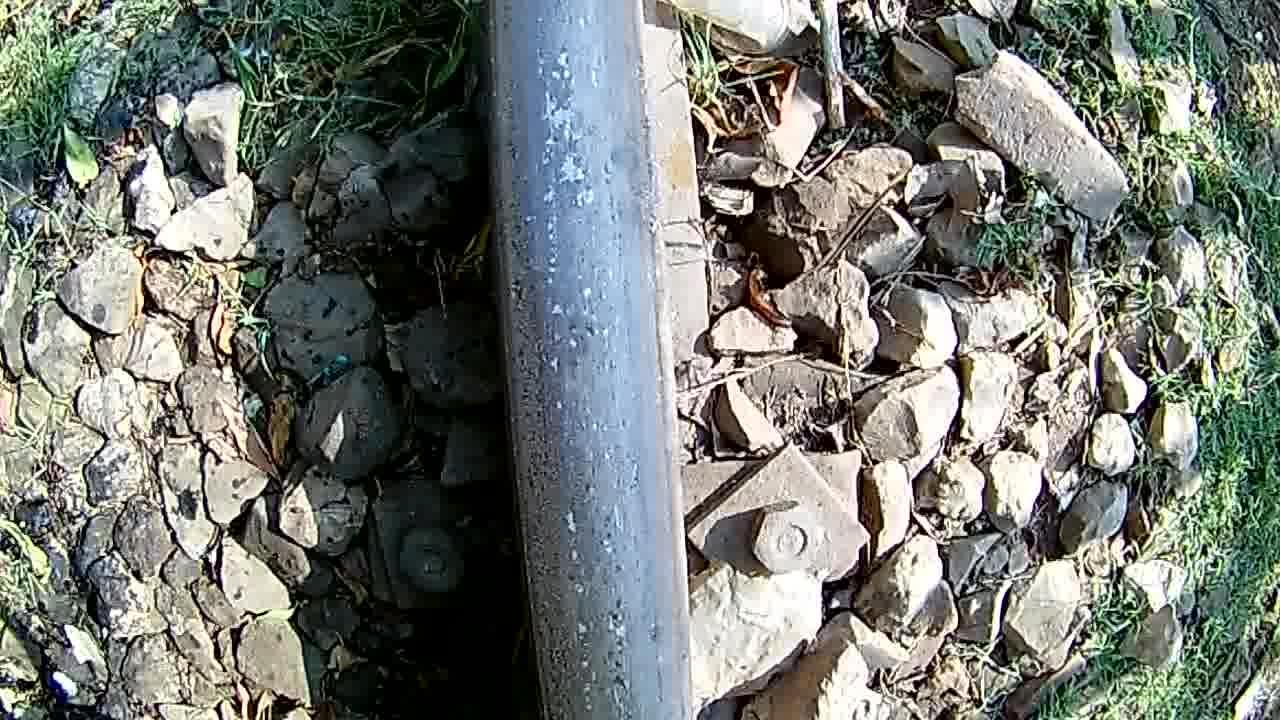crack: (487, 0, 679, 720)
